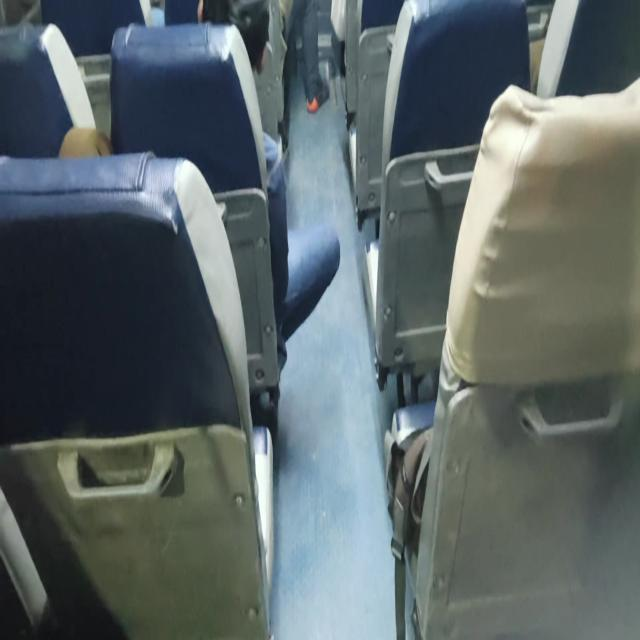person: (197, 1, 341, 375), (197, 0, 287, 156), (285, 0, 330, 114), (58, 125, 112, 158)
